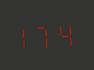four: (57, 19, 75, 48)
one: (18, 21, 36, 50)
seven: (38, 20, 56, 49)
